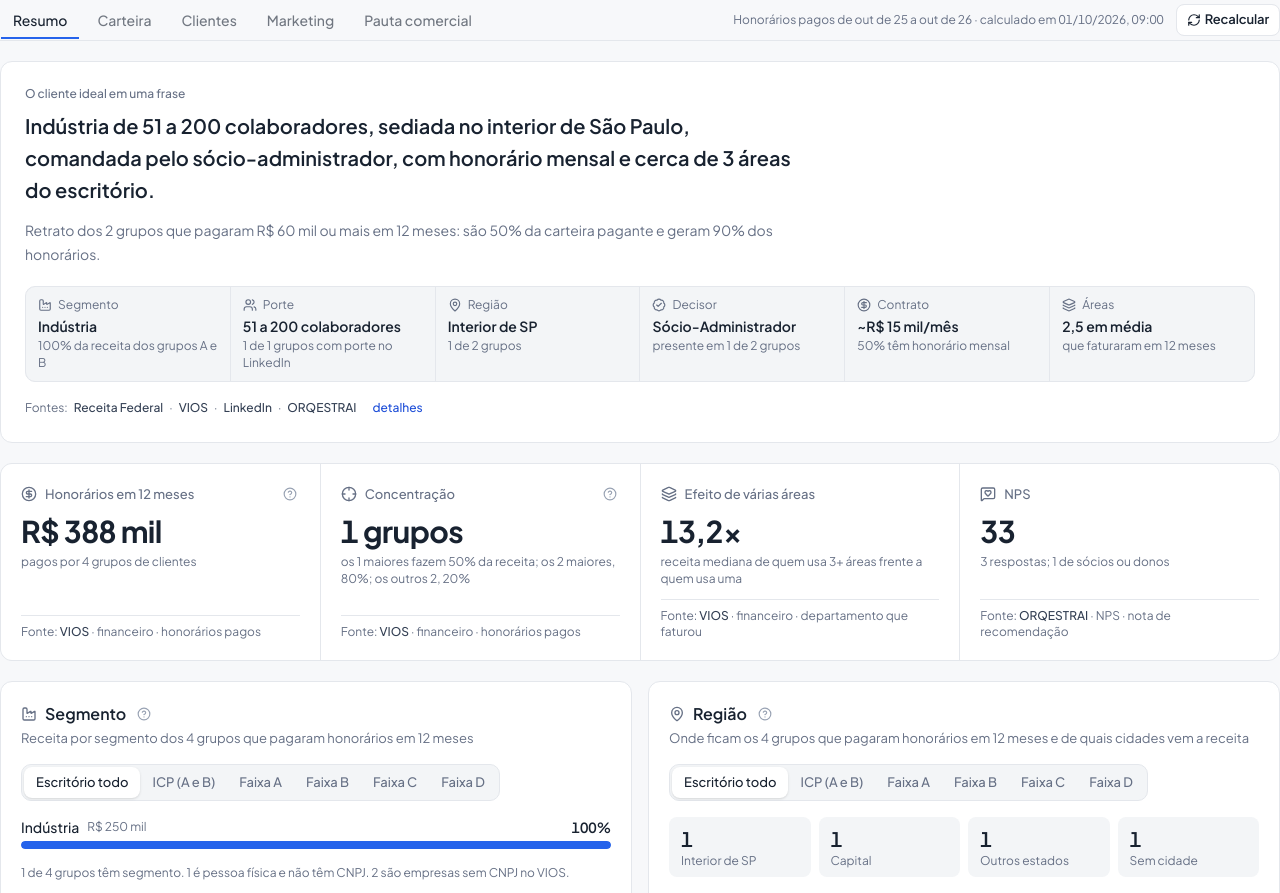
Test case: na aba Clientes, lista os grupos A e B por padrão e abre o detalhe do grupo
What coordinates should you click on to do the following:
click the tab "Clientes"
I would click on:
 (209, 20)
Its box is [168, 0, 250, 40].
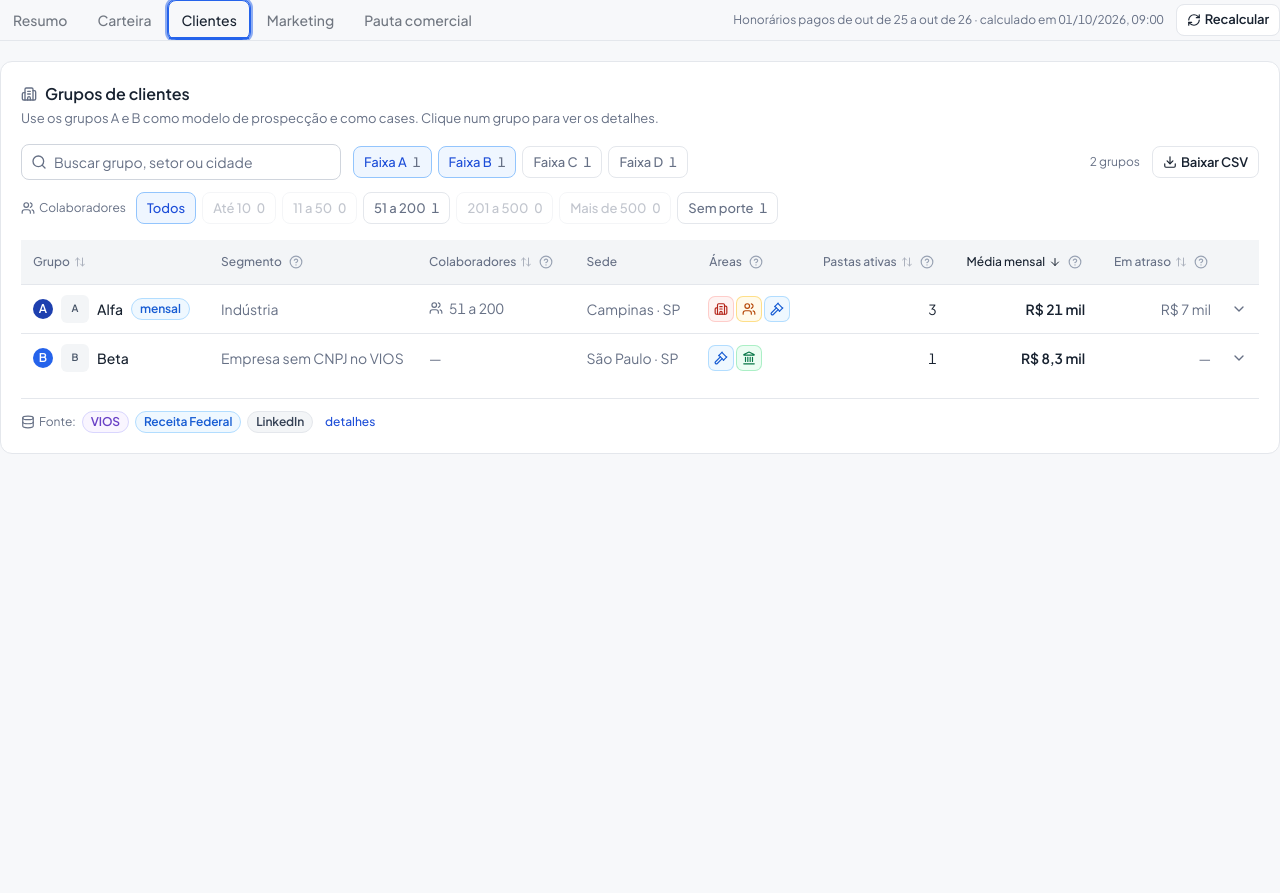
Check: the heading "Grupos de clientes" is shown, box [45, 82, 190, 106]
Check: the button "Beta" is shown, box [97, 348, 129, 368]
What coordinates should you click on to do the following:
click the button "Alfa"
I would click on:
 (110, 308)
Its box is [97, 298, 123, 318].
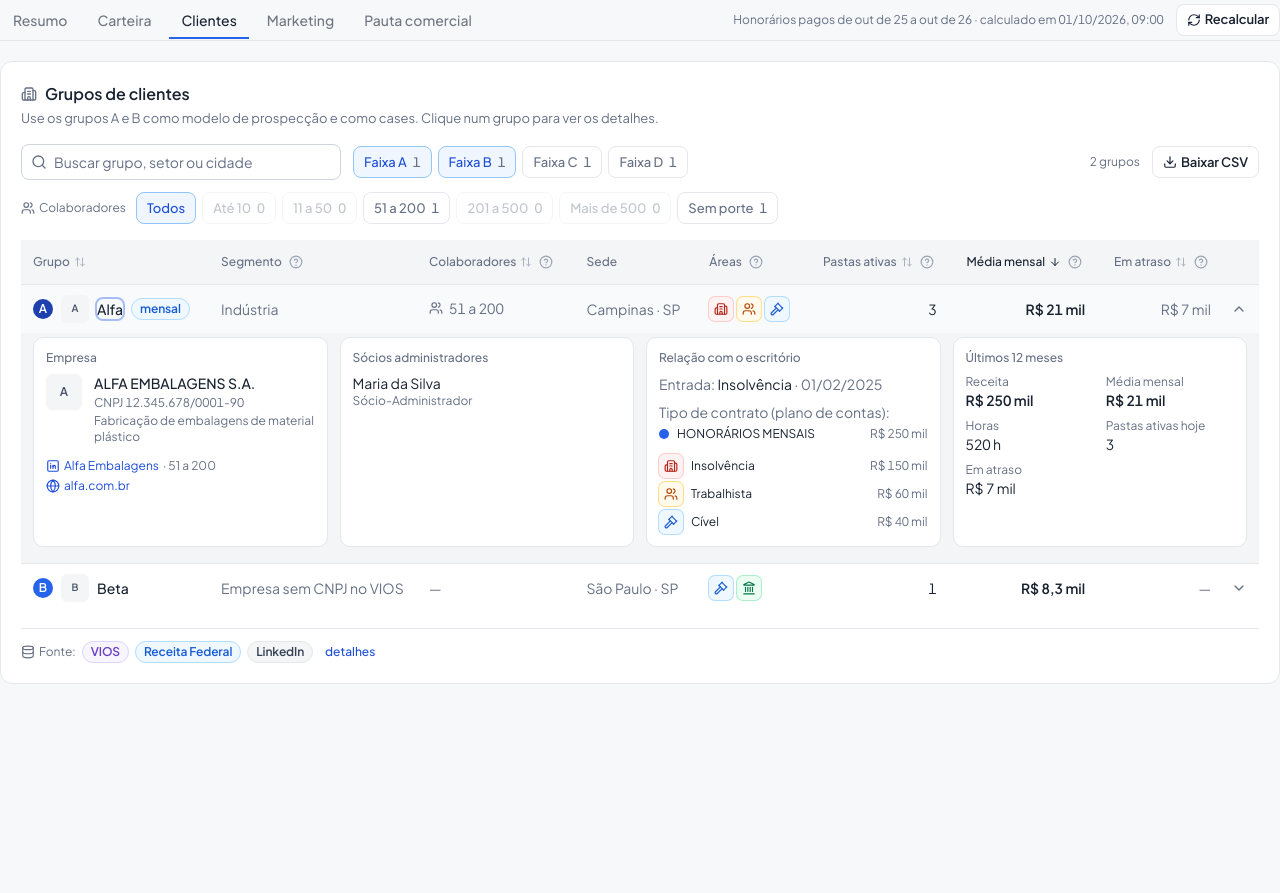
Check: the button "Alfa" is expanded, box [97, 298, 123, 318]
Check: the text "Sócios administradores" is shown, box [352, 350, 488, 364]
Check: the list item "Maria da Silva" is shown, box [352, 374, 441, 392]
// Ligar a faixa C traz o Gama para a lista.
What coordinates should you click on to do the following:
click the button "Faixa C 1"
I would click on:
 (562, 162)
Its box is [522, 146, 602, 178].
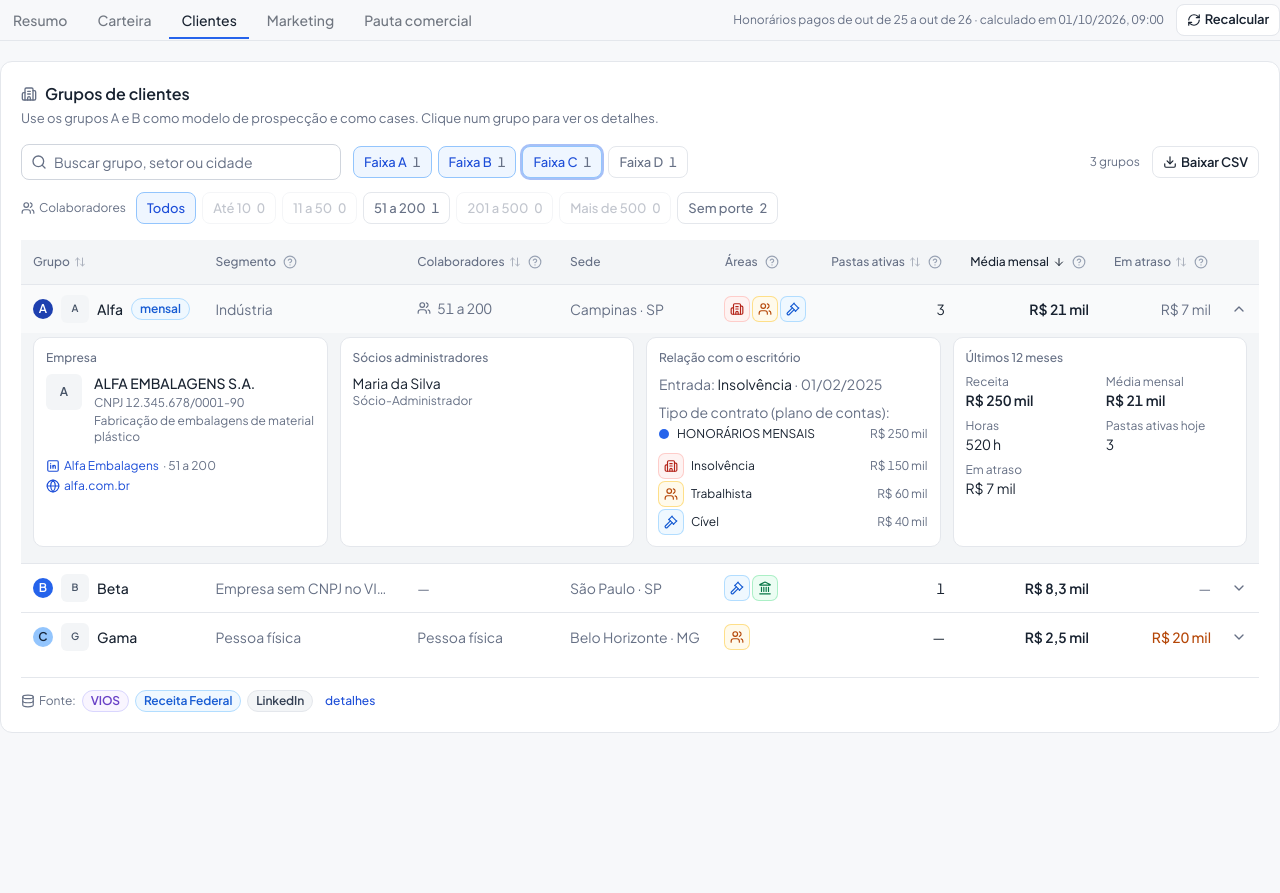
Check: the button "Gama" is shown, box [97, 626, 137, 646]
